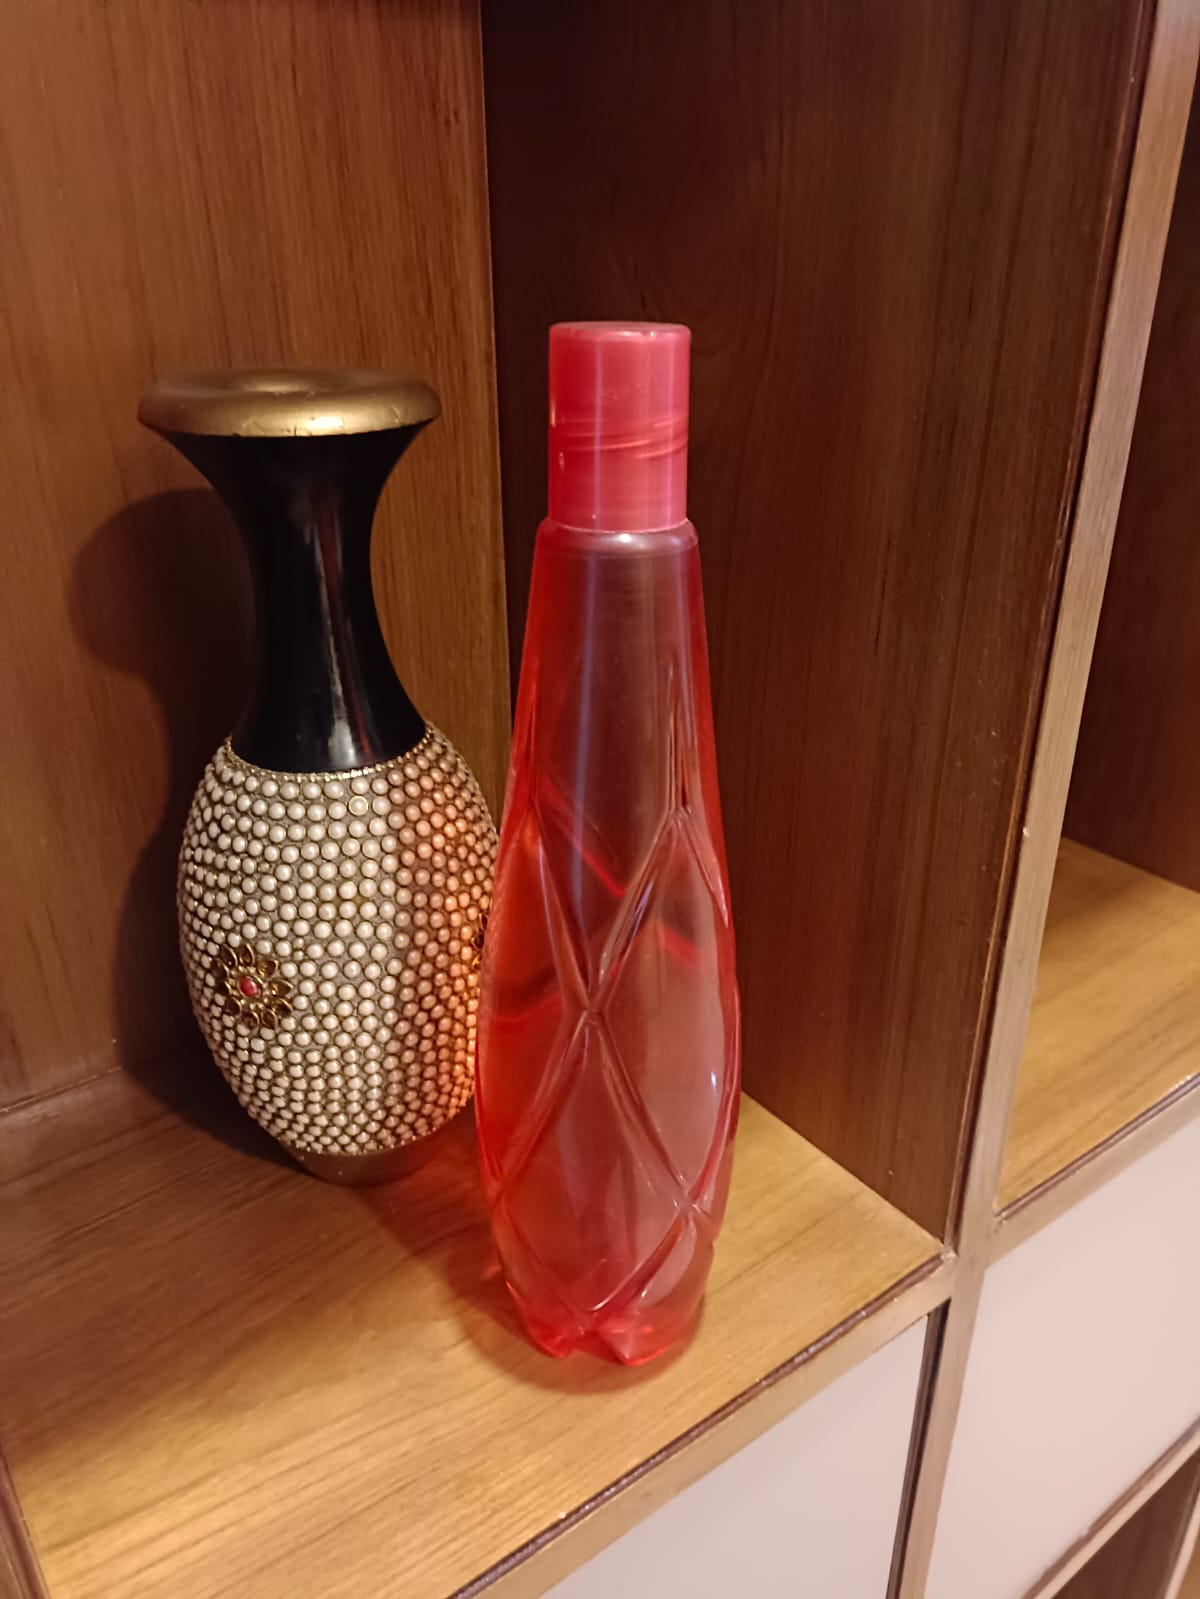bottle: (449, 304, 784, 1409)
